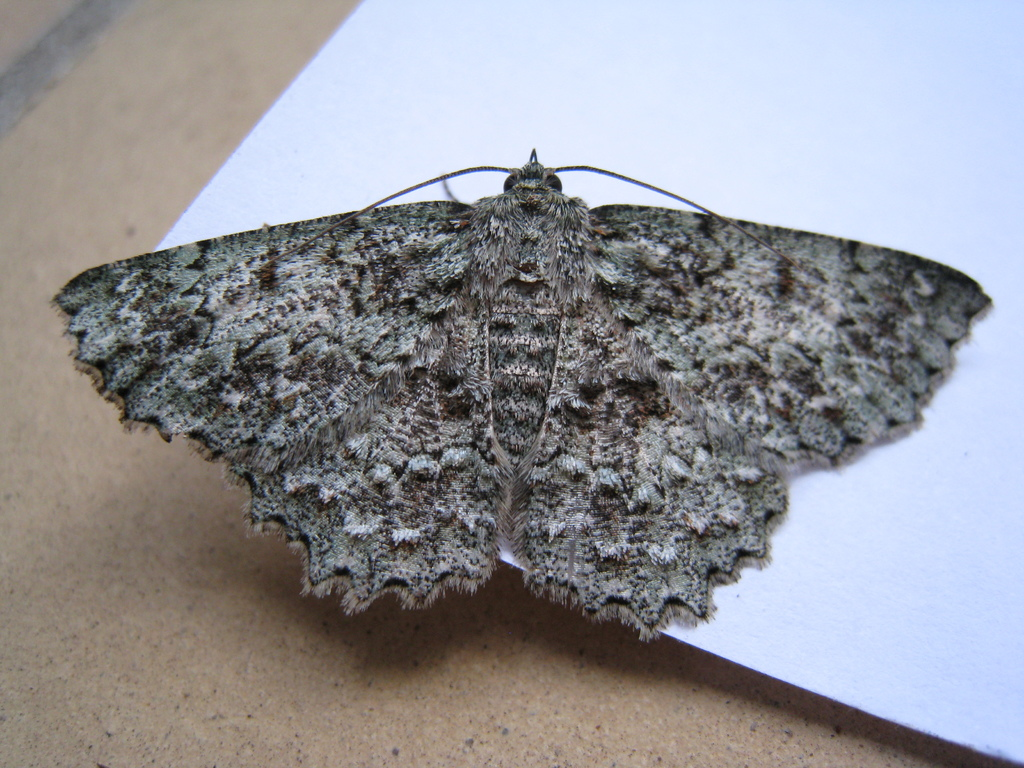Butterfly: (72, 143, 1024, 699)
